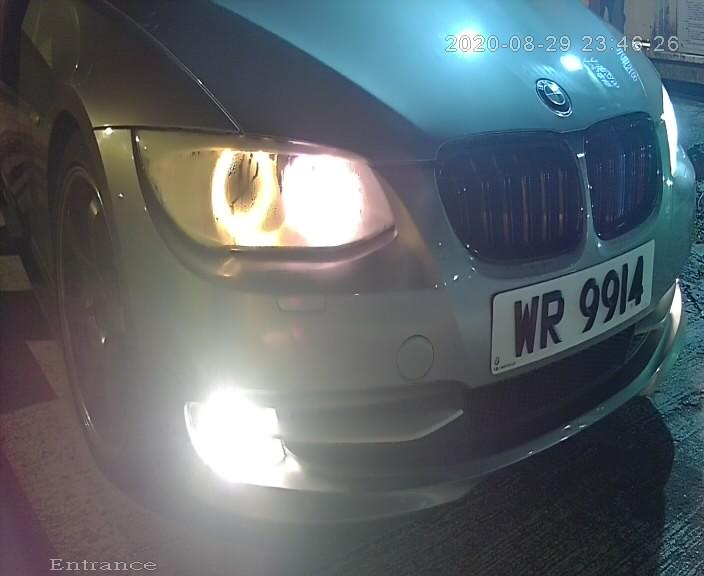License Plate: (488, 240, 651, 379)
